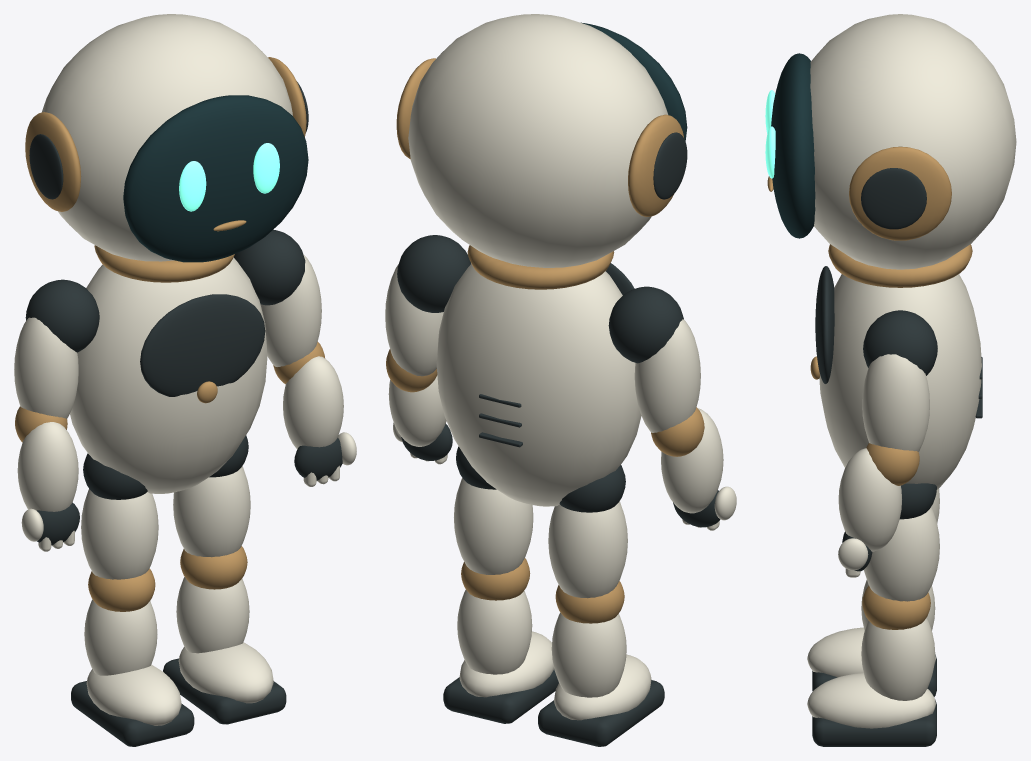
The model's file is robot-v1.glb.
3 renders of one model, left to right at view 1: azimuth 30°, elevation 25°; view 2: azimuth 150°, elevation 25°; view 3: azimuth 270°, elevation 25°, orthographic. The views are drawn at different scales.
Visible parts, largest first — view 1: Head_Ceramic • warm ivory, robot_Ceramic • warm ivory, Head_Faceplate • deep teal glass, Leg.L_Ceramic • warm ivory, Leg.R_Ceramic • warm ivory, Arm.L_Ceramic • warm ivory, robot_Graphite • joint rubber, Arm.R_Ceramic • warm ivory, Arm.R_Graphite • joint rubber, Arm.L_Graphite • joint rubber, Leg.L_Graphite • joint rubber, Head_Brass • brushed hardware (+8 smaller); view 2: Head_Ceramic • warm ivory, robot_Ceramic • warm ivory, Leg.L_Ceramic • warm ivory, Leg.R_Ceramic • warm ivory, Arm.L_Ceramic • warm ivory, Arm.R_Ceramic • warm ivory, Arm.R_Graphite • joint rubber, Leg.L_Graphite • joint rubber, Arm.L_Graphite • joint rubber, Head_Brass • brushed hardware, Leg.R_Graphite • joint rubber, robot_Brass • brushed hardware (+7 smaller); view 3: Head_Ceramic • warm ivory, robot_Ceramic • warm ivory, Leg.R_Ceramic • warm ivory, Arm.R_Ceramic • warm ivory, Head_Faceplate • deep teal glass, Head_Brass • brushed hardware, Leg.R_Graphite • joint rubber, Arm.R_Graphite • joint rubber, Head_Graphite • joint rubber, robot_Brass • brushed hardware, Leg.L_Ceramic • warm ivory, robot_Graphite • joint rubber (+4 smaller).
Part boxes in pixels (<box>): Head_Ceramic • warm ivory: <box>41,14,292,261</box>; robot_Ceramic • warm ivory: <box>70,257,267,493</box>; Head_Faceplate • deep teal glass: <box>123,95,308,262</box>; Leg.L_Ceramic • warm ivory: <box>81,489,181,725</box>; Leg.R_Ceramic • warm ivory: <box>173,466,273,703</box>; Arm.L_Ceramic • warm ivory: <box>14,317,78,551</box>; robot_Graphite • joint rubber: <box>140,294,265,396</box>; Arm.R_Ceramic • warm ivory: <box>260,254,356,486</box>; Arm.R_Graphite • joint rubber: <box>234,229,342,480</box>; Arm.L_Graphite • joint rubber: <box>25,279,99,545</box>; Leg.L_Graphite • joint rubber: <box>71,453,194,746</box>; Head_Brass • brushed hardware: <box>25,57,306,231</box>; Head_Ceramic • warm ivory: <box>408,14,668,267</box>; robot_Ceramic • warm ivory: <box>436,264,641,506</box>; Leg.L_Ceramic • warm ivory: <box>548,501,651,720</box>; Leg.R_Ceramic • warm ivory: <box>454,478,554,697</box>; Arm.L_Ceramic • warm ivory: <box>634,319,736,530</box>; Arm.R_Ceramic • warm ivory: <box>385,264,447,464</box>; Arm.R_Graphite • joint rubber: <box>397,235,471,460</box>; Leg.L_Graphite • joint rubber: <box>538,465,664,746</box>; Arm.L_Graphite • joint rubber: <box>608,286,720,527</box>; Head_Brass • brushed hardware: <box>396,58,683,216</box>; Leg.R_Graphite • joint rubber: <box>443,446,558,723</box>; robot_Brass • brushed hardware: <box>467,245,614,289</box>; Head_Ceramic • warm ivory: <box>810,14,1016,269</box>; robot_Ceramic • warm ivory: <box>819,274,981,489</box>; Leg.R_Ceramic • warm ivory: <box>807,507,939,728</box>; Arm.R_Ceramic • warm ivory: <box>838,354,929,577</box>; Head_Faceplate • deep teal glass: <box>771,53,815,238</box>; Head_Brass • brushed hardware: <box>767,146,951,240</box>; Leg.R_Graphite • joint rubber: <box>812,483,936,746</box>; Arm.R_Graphite • joint rubber: <box>842,310,937,571</box>; Head_Graphite • joint rubber: <box>861,168,926,229</box>; robot_Brass • brushed hardware: <box>810,244,972,379</box>; Leg.L_Ceramic • warm ivory: <box>807,488,939,677</box>; robot_Graphite • joint rubber: <box>815,266,982,418</box>.
Bounding box in the file's own units: 0.894 × 1.75 × 0.584.
